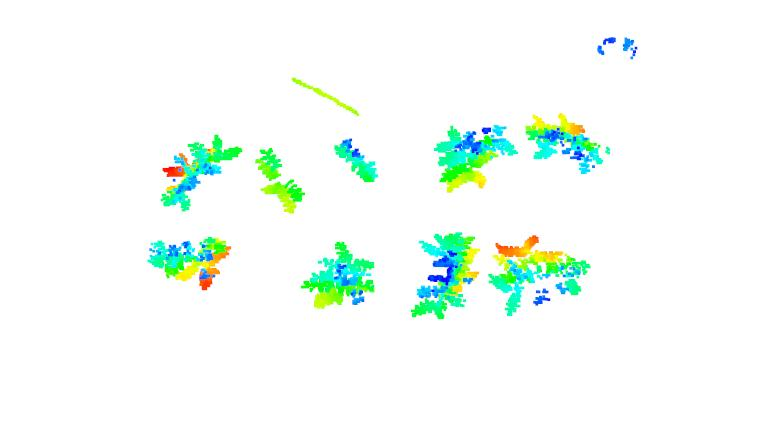chickpea: (491, 233, 590, 315), (159, 135, 245, 210), (408, 231, 479, 319), (433, 123, 517, 194), (298, 242, 380, 307), (525, 112, 609, 174), (147, 234, 232, 292), (255, 146, 306, 216), (335, 138, 379, 185)
